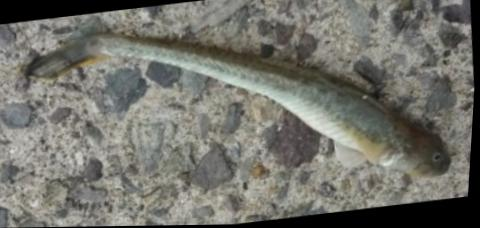fish: (25, 35, 451, 179)
